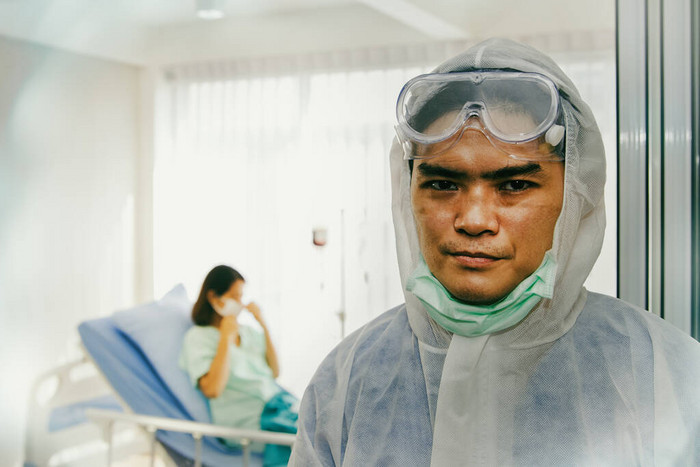mask_weared_incorrect: (389, 73, 575, 336)
